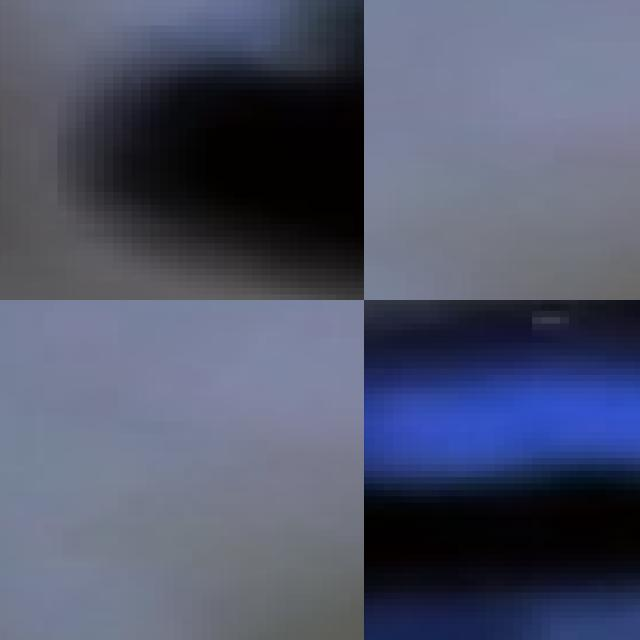fish: (0, 0, 364, 300), (364, 300, 640, 640)
